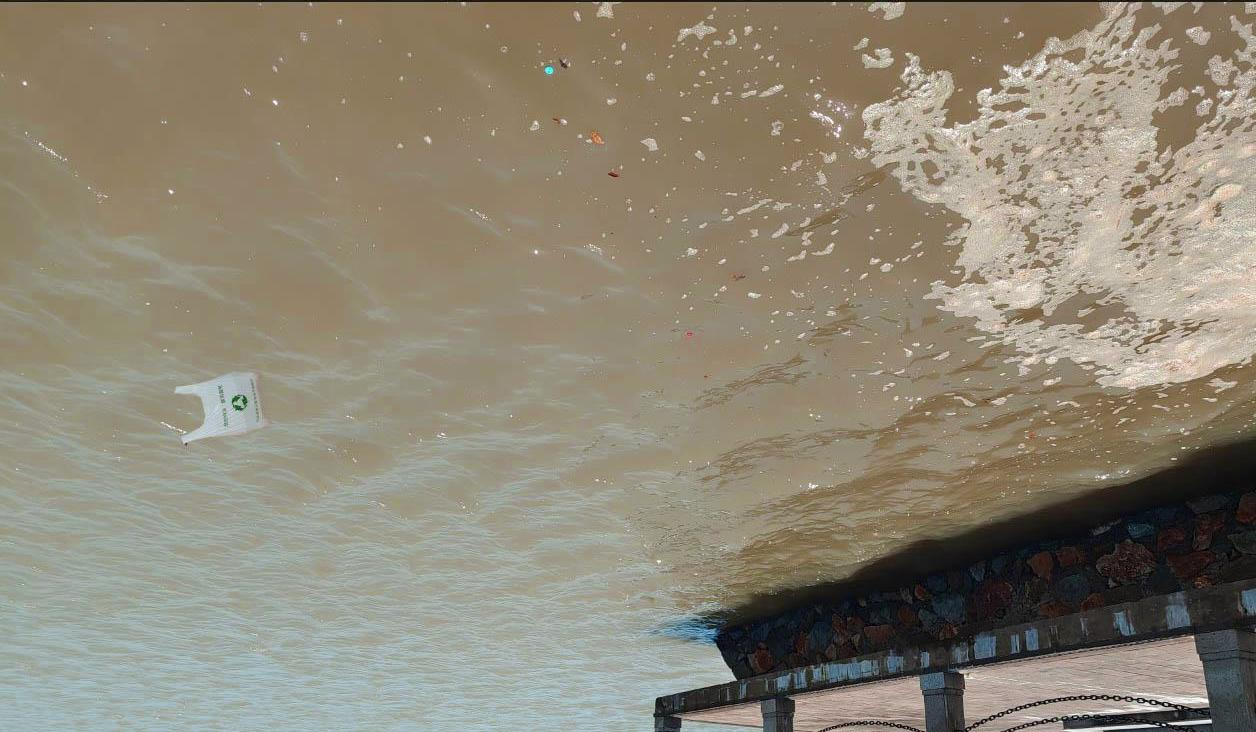Trash: (173, 370, 269, 449)
